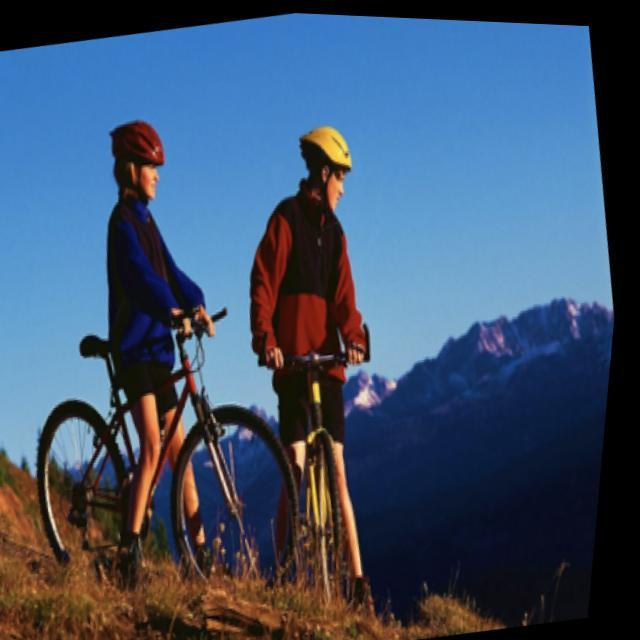Helmet: (93, 110, 172, 214), (291, 121, 356, 211)
